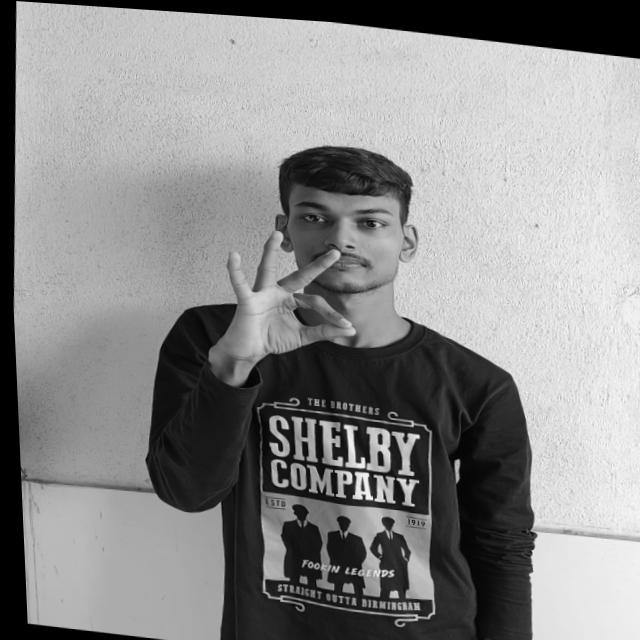Superb: (212, 221, 361, 368)
